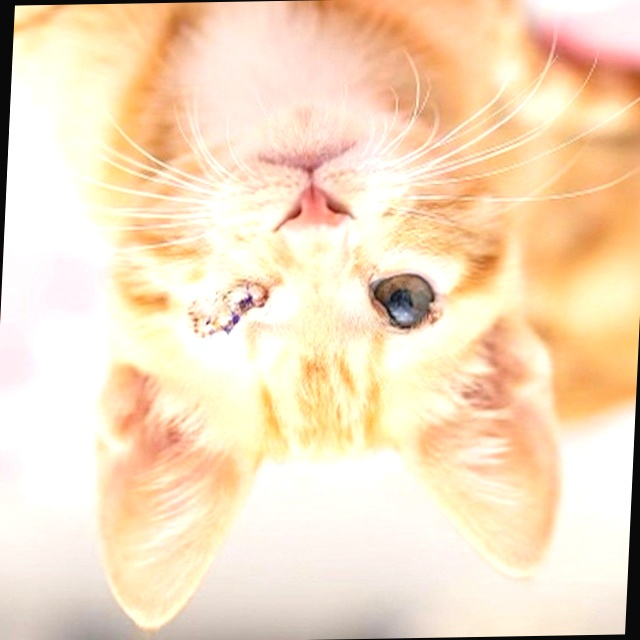eye_infection: (355, 270, 439, 332)
